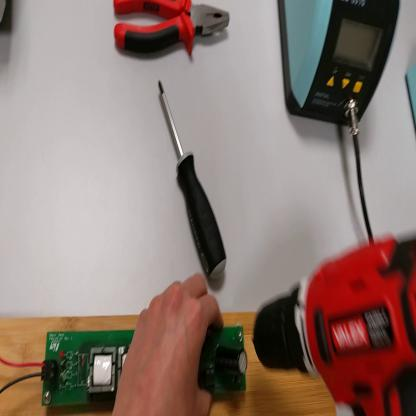electric screwdriver: (253, 236, 415, 415)
hand: (116, 273, 223, 416)
high voltage board: (1, 321, 250, 405)
oscilloscope: (2, 3, 7, 27)
pliers: (112, 1, 231, 59)
screwdriver-: (159, 80, 228, 286)
welder base: (407, 58, 416, 134)
welder station: (278, 3, 402, 127)
working area: (2, 312, 337, 416)
